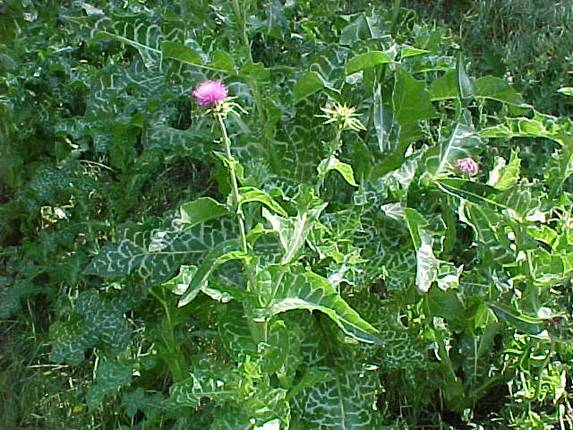thistle: (189, 79, 241, 126)
